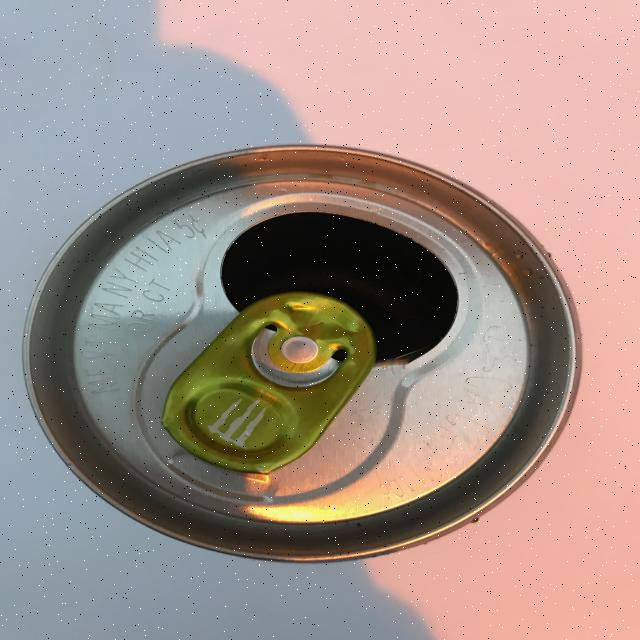metal: (22, 143, 582, 563)
